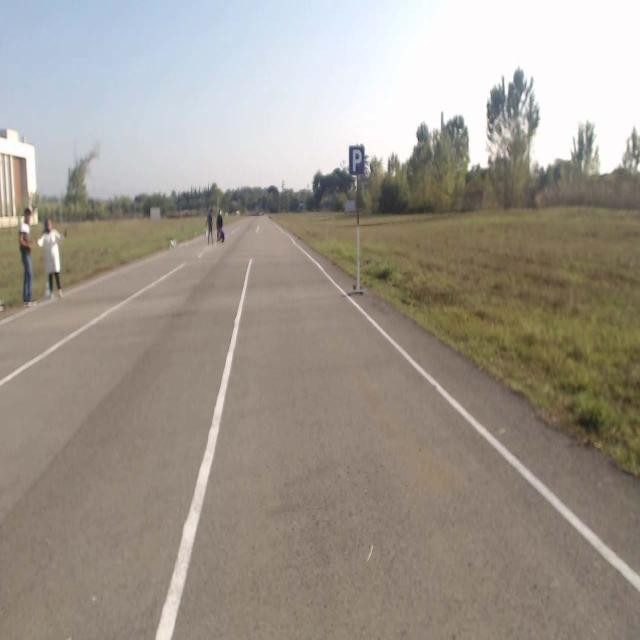park: (349, 146, 364, 174)
